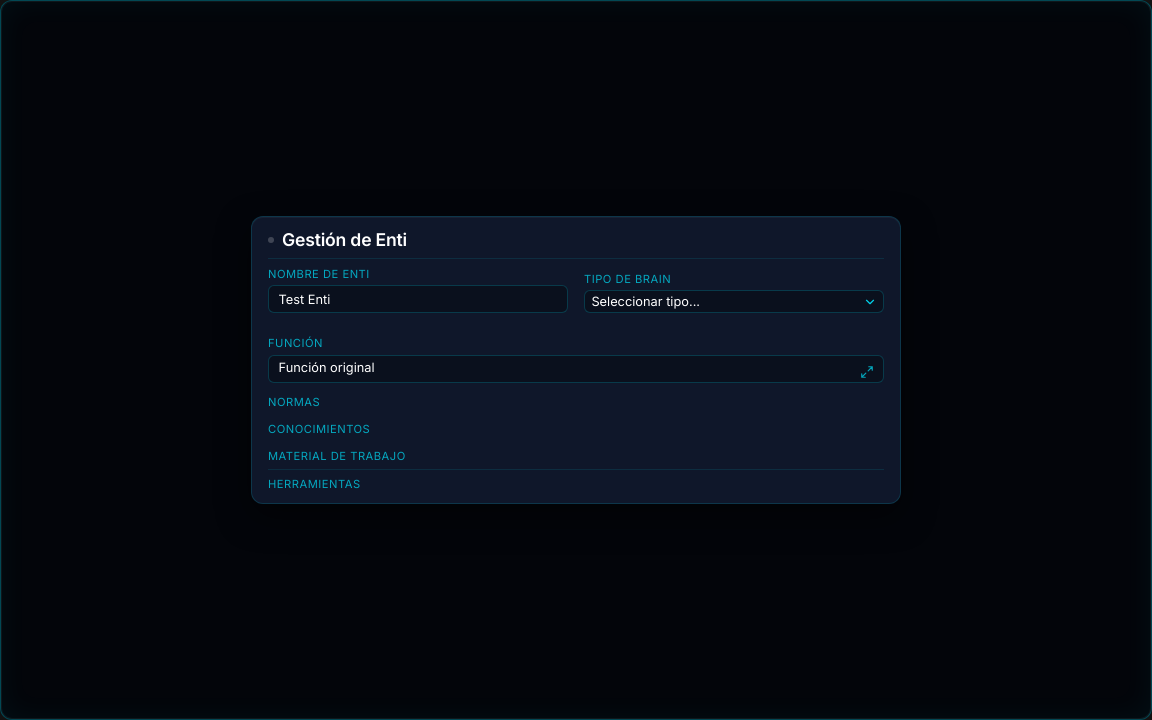
Workspace Cognitive Config Integration (FIA-016) › TEST-FIA016-02: configuración local pasiva/mock no muestra controles operativos cloud
Click the element with test id "input-cognitive-mode": point(734, 302) [584,290,884,313]
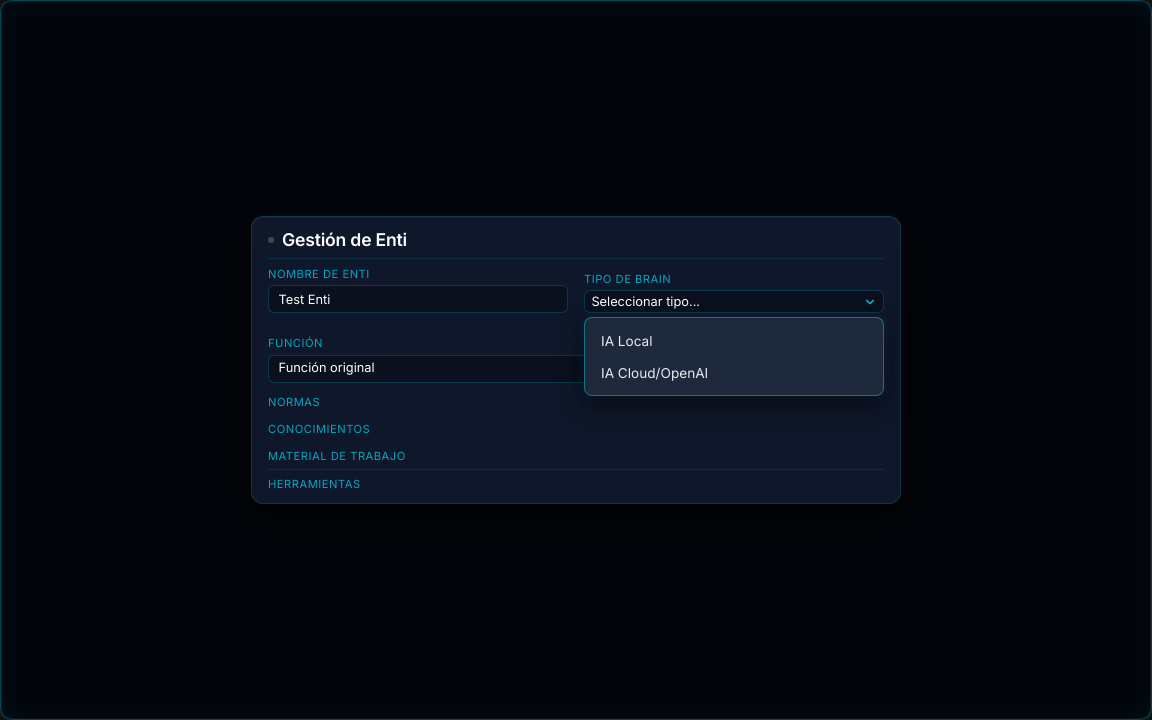
Click the list item with test id "option-local": point(627, 341) [601,333,652,349]
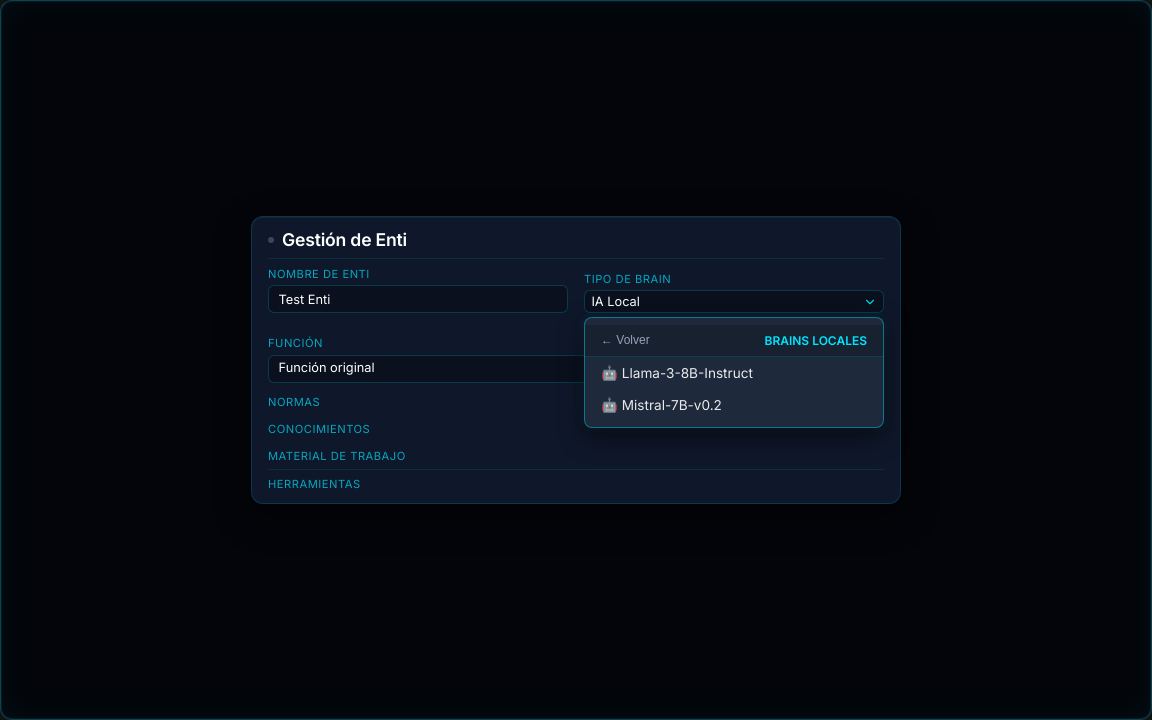
Now the element with test id "local-brain-detection-block" is shown, box [585,325,883,421]
